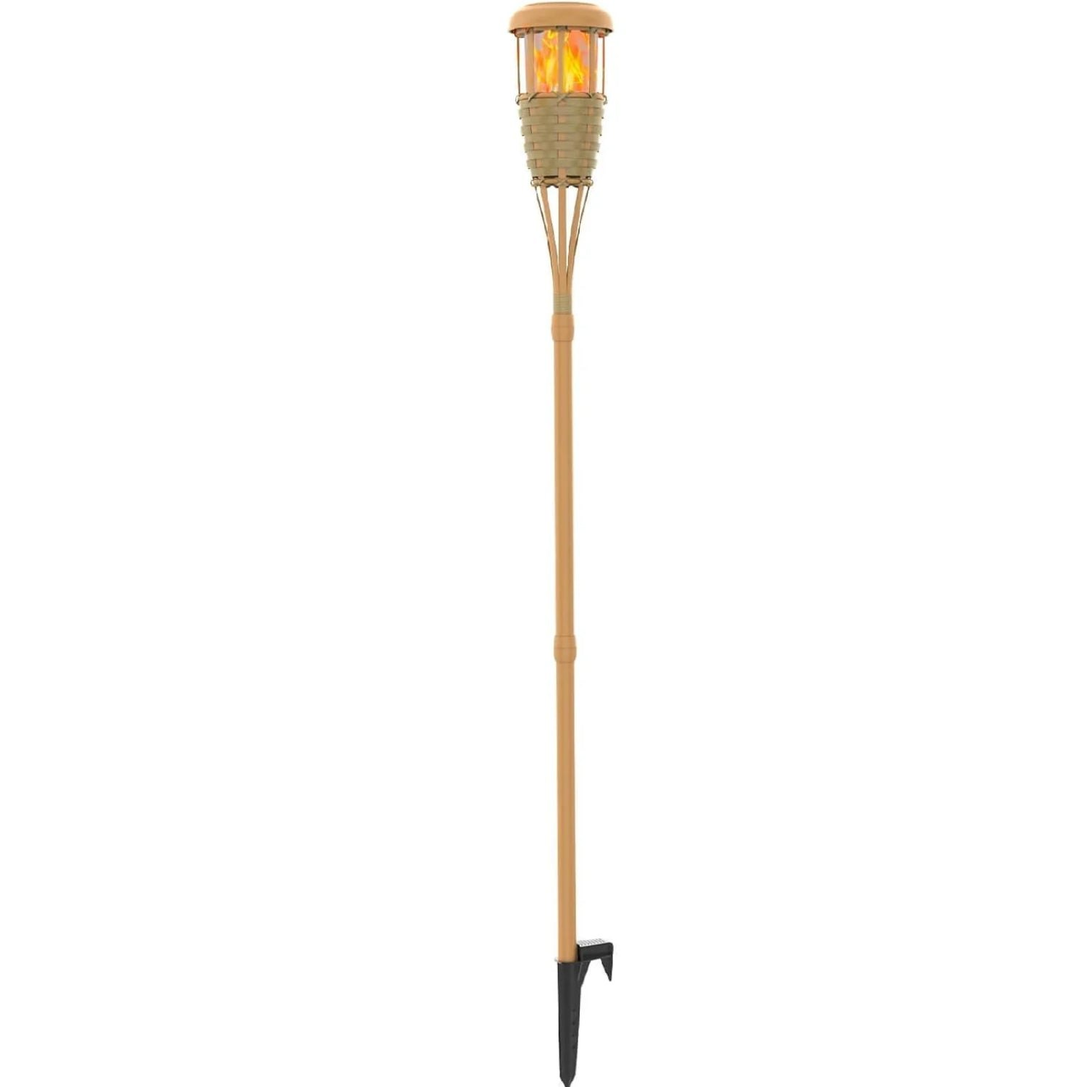Open-Flame-Hazard: (453, 1, 675, 1082)
